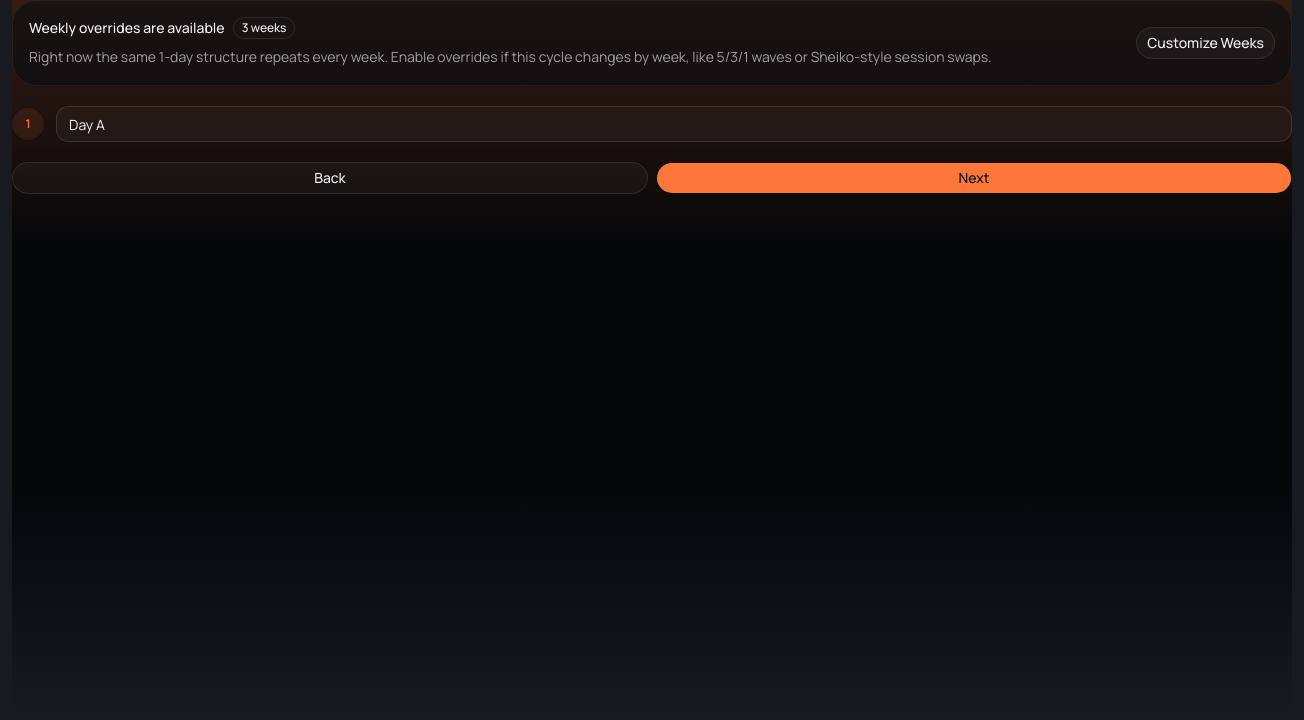
Test: DaysStep › lets builders turn weekly overrides back off and reuse a shared layout
Step 1. Click the button "Customize Weeks" → (1206, 43), box left=1136, top=27, right=1275, bottom=59
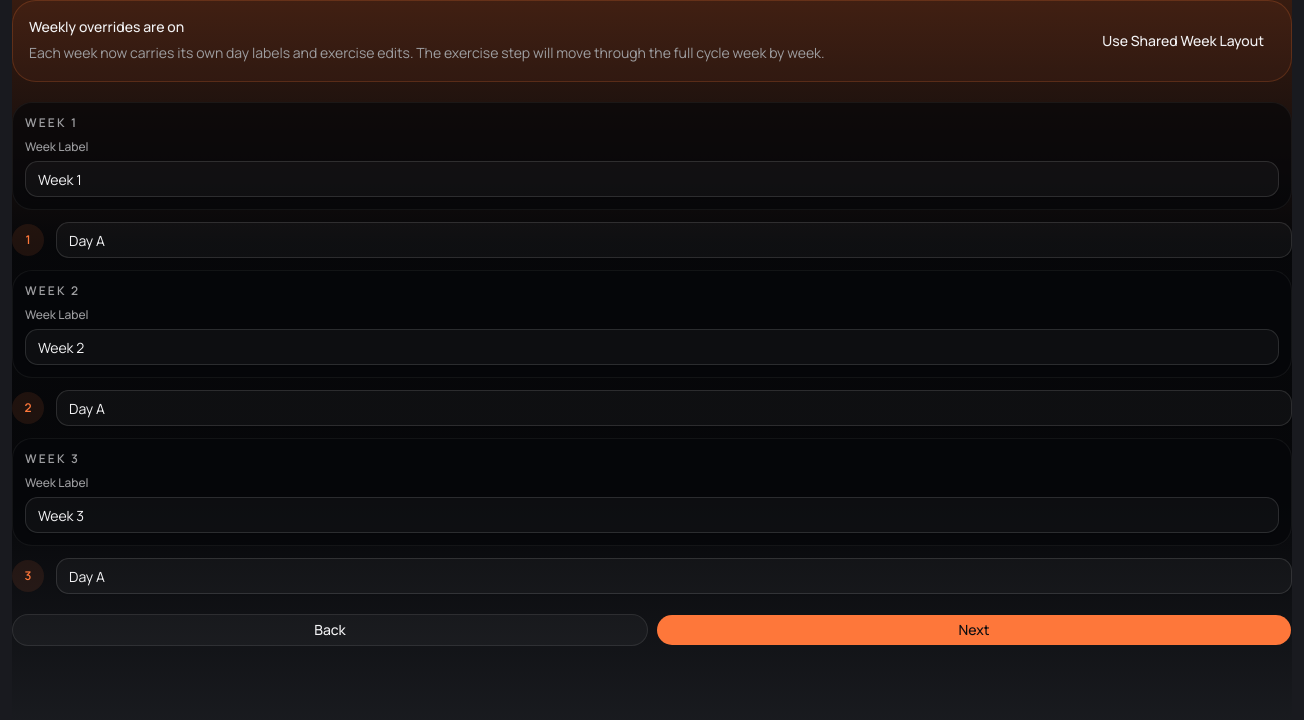
Step 2. Click the button "Use Shared Week Layout" → (1183, 41), box left=1091, top=25, right=1275, bottom=57
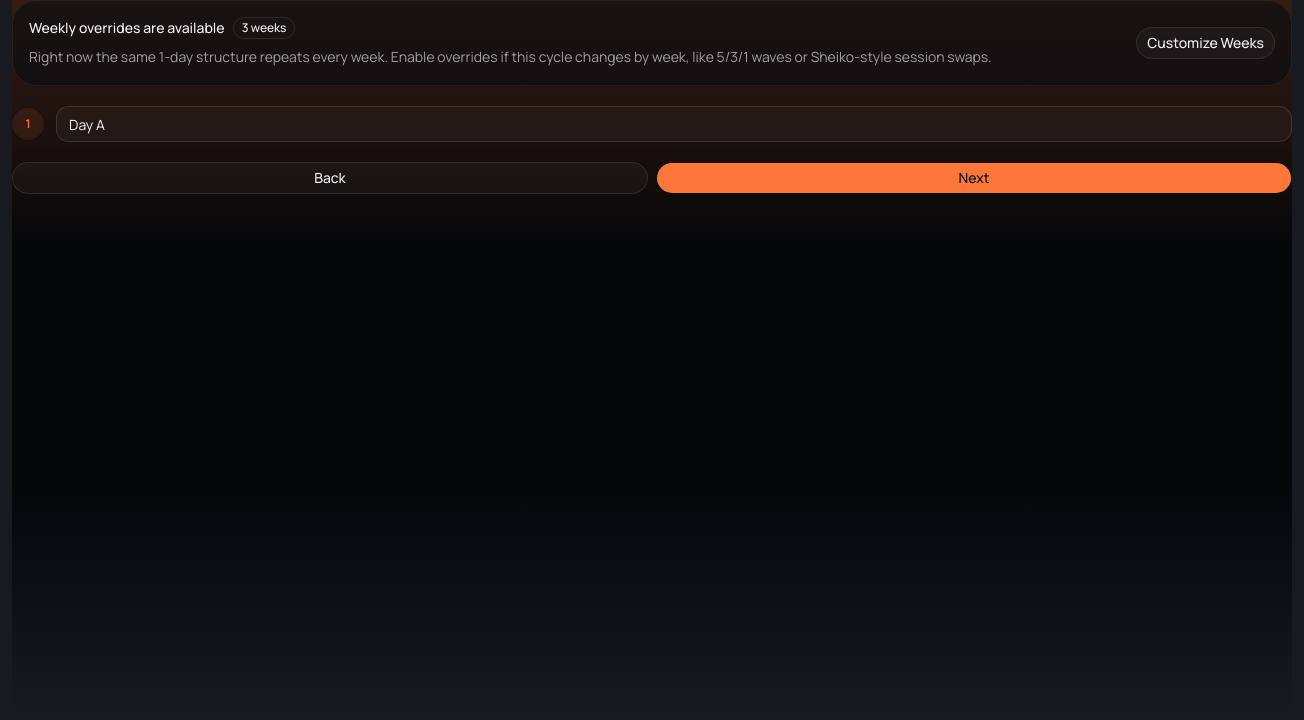
Now the text "Weekly overrides are on" is gone
Now the button "Customize Weeks" is shown, box left=1136, top=27, right=1275, bottom=59
